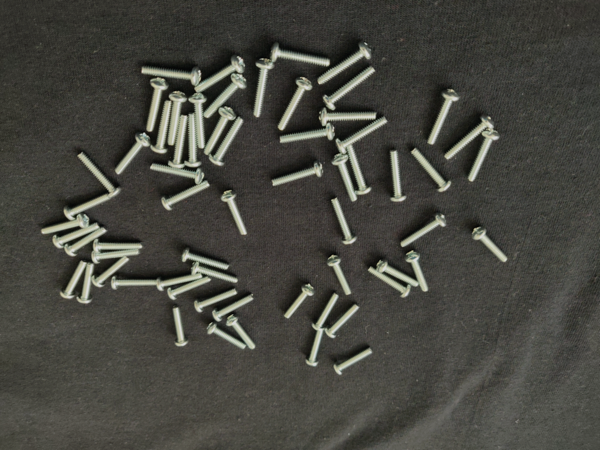longscrew: (315, 41, 373, 86), (322, 66, 377, 112), (444, 114, 496, 161), (76, 151, 123, 199), (423, 89, 462, 146), (335, 116, 391, 155), (203, 73, 248, 120), (277, 76, 314, 132), (193, 55, 247, 93), (410, 147, 452, 193), (208, 115, 245, 167), (468, 128, 502, 184), (401, 212, 449, 249), (203, 105, 237, 157), (161, 179, 211, 212), (270, 41, 331, 68), (114, 132, 152, 175), (142, 78, 170, 133), (271, 160, 325, 188), (368, 265, 412, 299), (140, 63, 202, 87), (331, 152, 360, 203), (63, 192, 113, 221), (64, 227, 110, 258), (346, 144, 373, 196), (253, 58, 276, 119), (150, 161, 206, 186), (221, 189, 250, 237), (331, 197, 359, 246), (52, 223, 102, 250), (91, 256, 131, 289), (325, 304, 361, 340), (377, 258, 420, 288), (474, 227, 509, 263), (318, 107, 378, 128), (279, 122, 336, 144), (188, 92, 209, 151), (181, 247, 230, 272), (168, 91, 189, 149), (212, 295, 255, 323), (311, 292, 341, 332), (333, 347, 374, 376), (206, 322, 247, 351), (282, 284, 315, 320), (150, 101, 172, 155), (225, 314, 257, 351), (191, 261, 239, 285), (193, 289, 239, 314), (327, 254, 353, 297), (60, 261, 88, 300), (167, 277, 212, 301), (41, 213, 90, 235), (405, 251, 430, 294), (184, 113, 203, 169), (169, 114, 188, 170), (388, 150, 408, 203), (156, 272, 203, 292), (93, 238, 145, 255), (305, 327, 326, 369), (77, 262, 96, 305), (111, 274, 159, 291), (91, 249, 141, 265), (171, 305, 189, 348)
